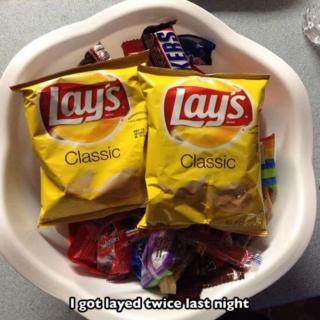Potato: (63, 169, 94, 196)
